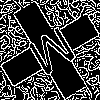M: (25, 25, 85, 86)
